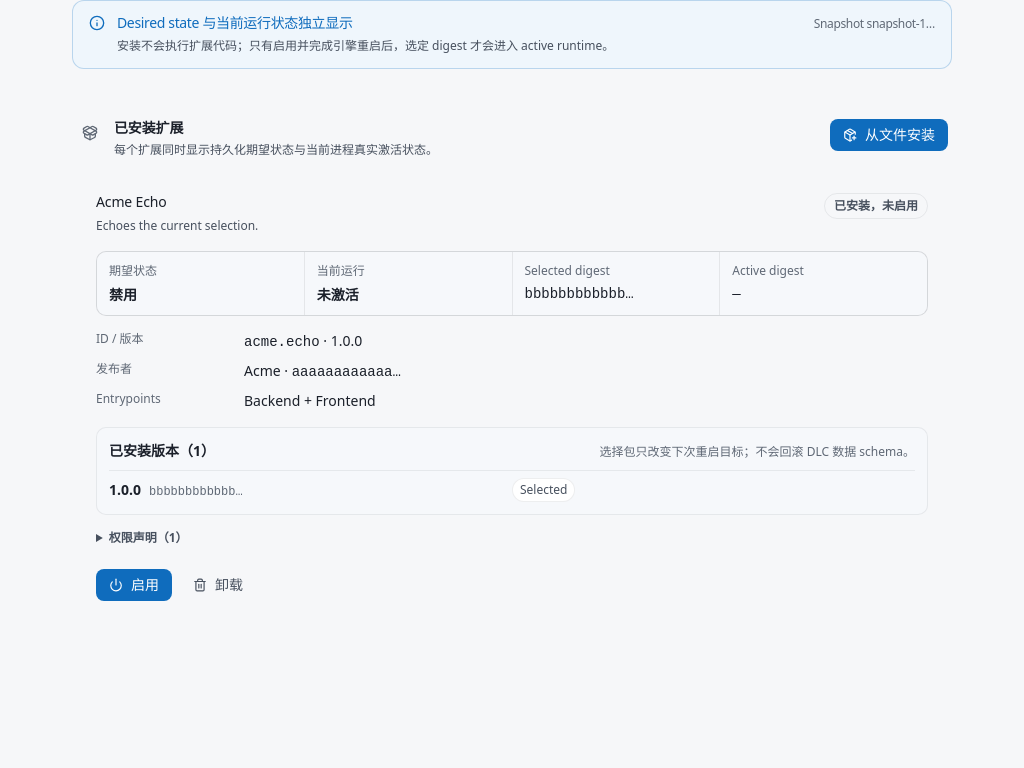
DlcCenter › keeps desired and active truth separate through enable and restart
Expected: the text "已安装，未启用" is shown, [824,193,928,219]
Step 1. Click the button "启用" → (134, 585), box [96,569,172,601]
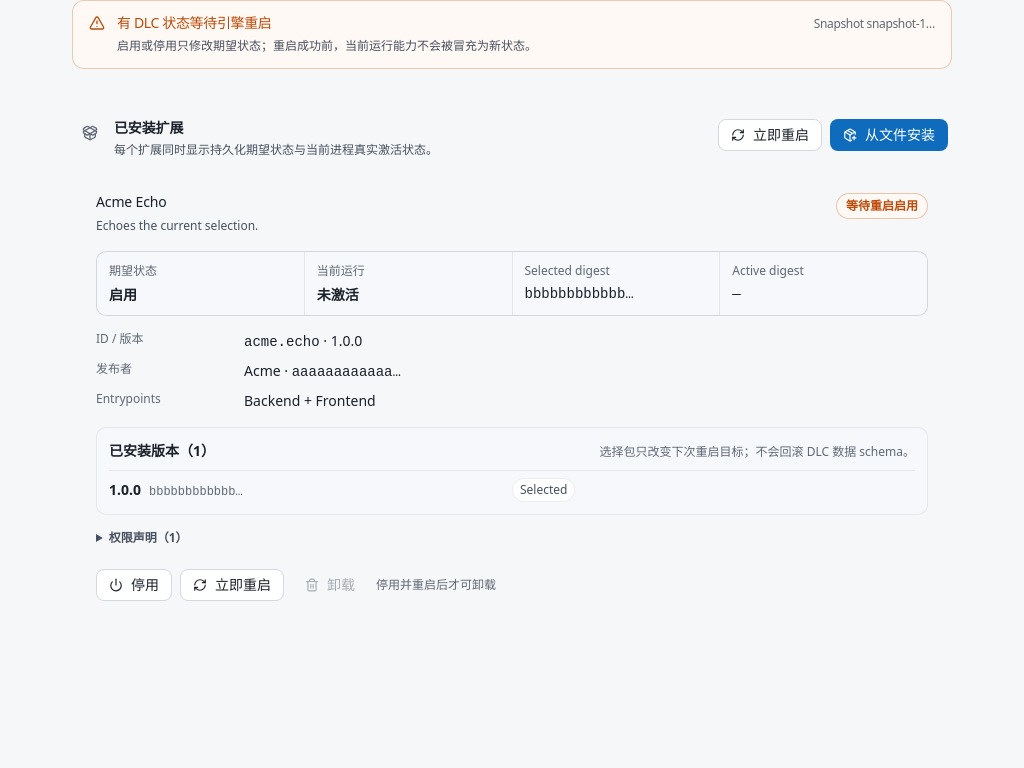
Expected: the text "未激活" is shown, [317,285,359,304]
Expected: the text "等待重启启用" is shown, [836,193,928,219]
Expected: the text "启用" is shown, [109,285,137,304]
Step 2. Click the button "立即重启" in the row of "每个扩展同时显示持久化期望状态与当前进程真实激活状态。" → (770, 134), box [718,118,822,150]
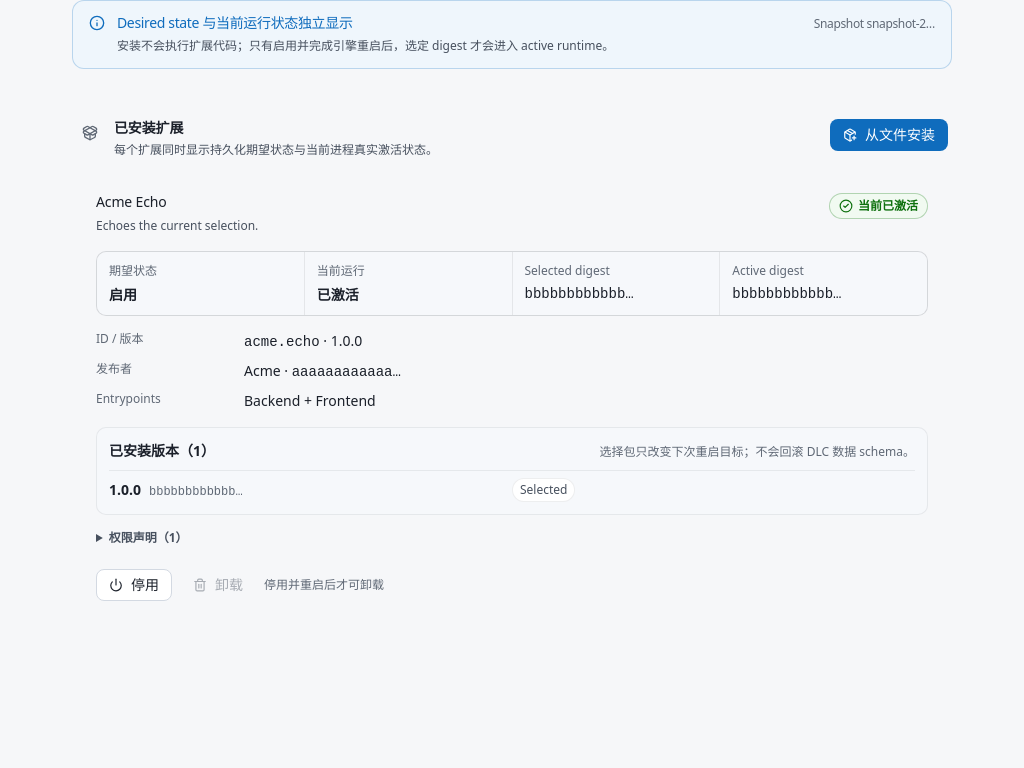
Expected: the text "当前已激活" is shown, [829,193,928,219]
Expected: the text "已激活" is shown, [317,285,359,304]
Step 3. Click the button "停用" → (134, 585), box [96,569,172,601]
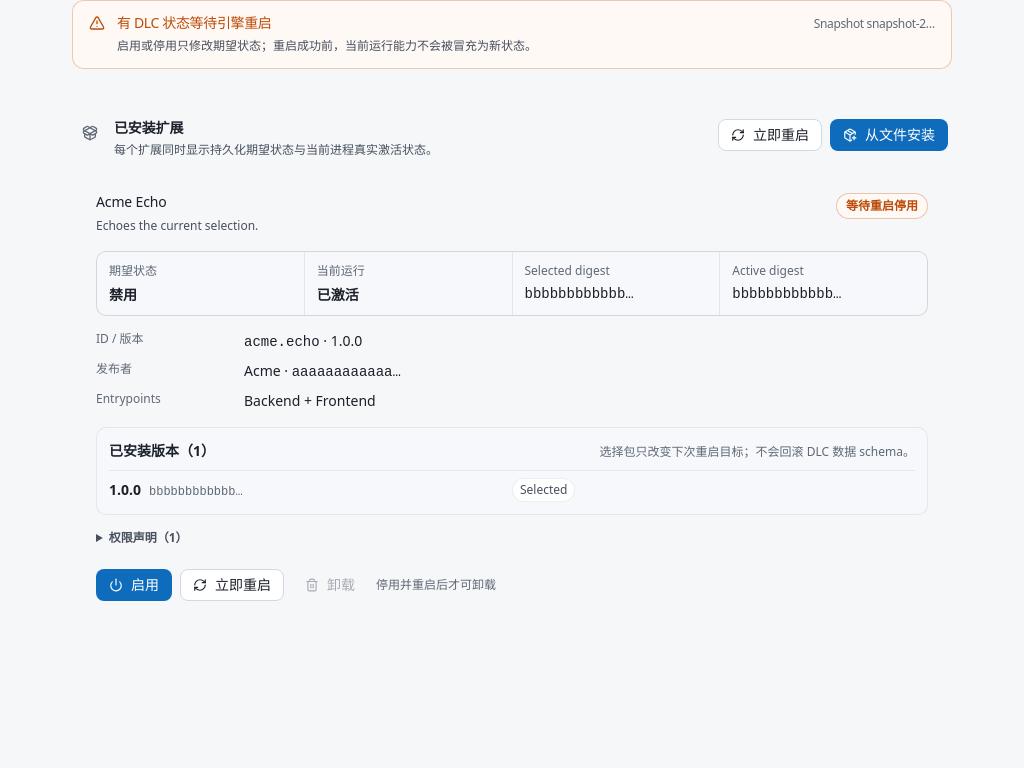
Expected: the text "已激活" is shown, [317,285,359,304]
Expected: the text "等待重启停用" is shown, [836,193,928,219]
Expected: the text "禁用" is shown, [109,285,137,304]
